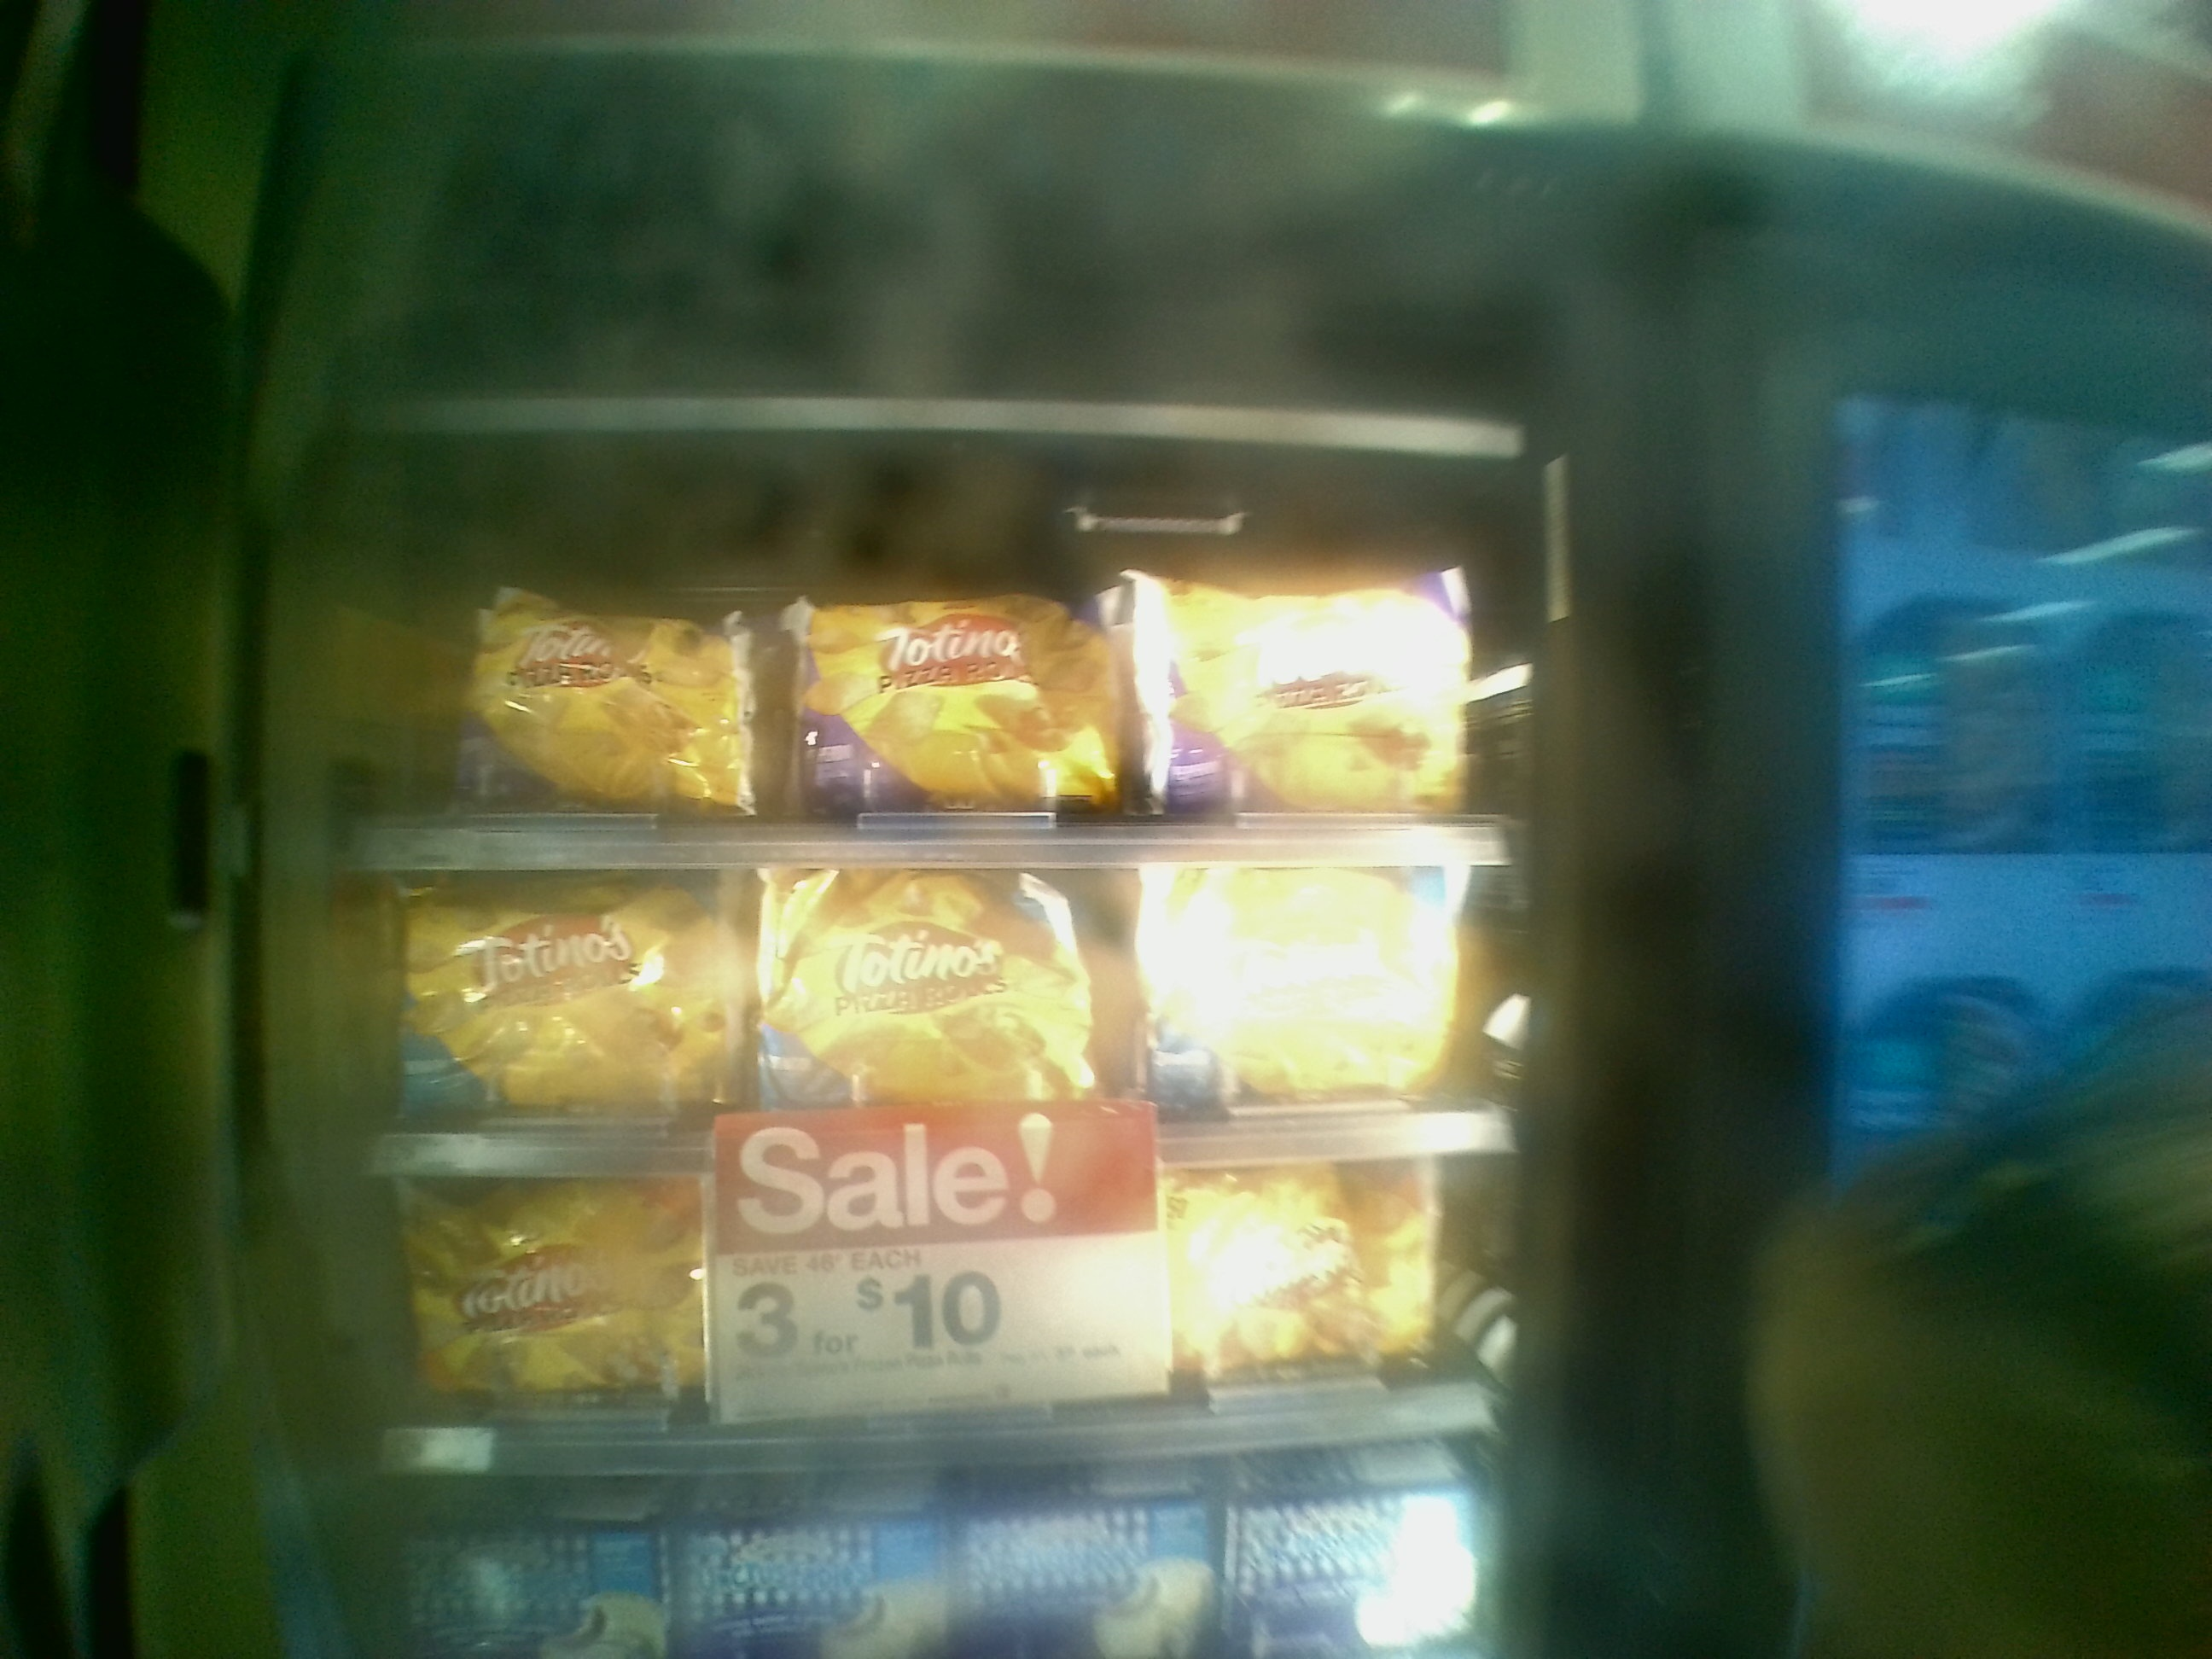shelf: (378, 464, 1510, 868), (362, 875, 1519, 1161), (347, 1169, 1507, 1424)
